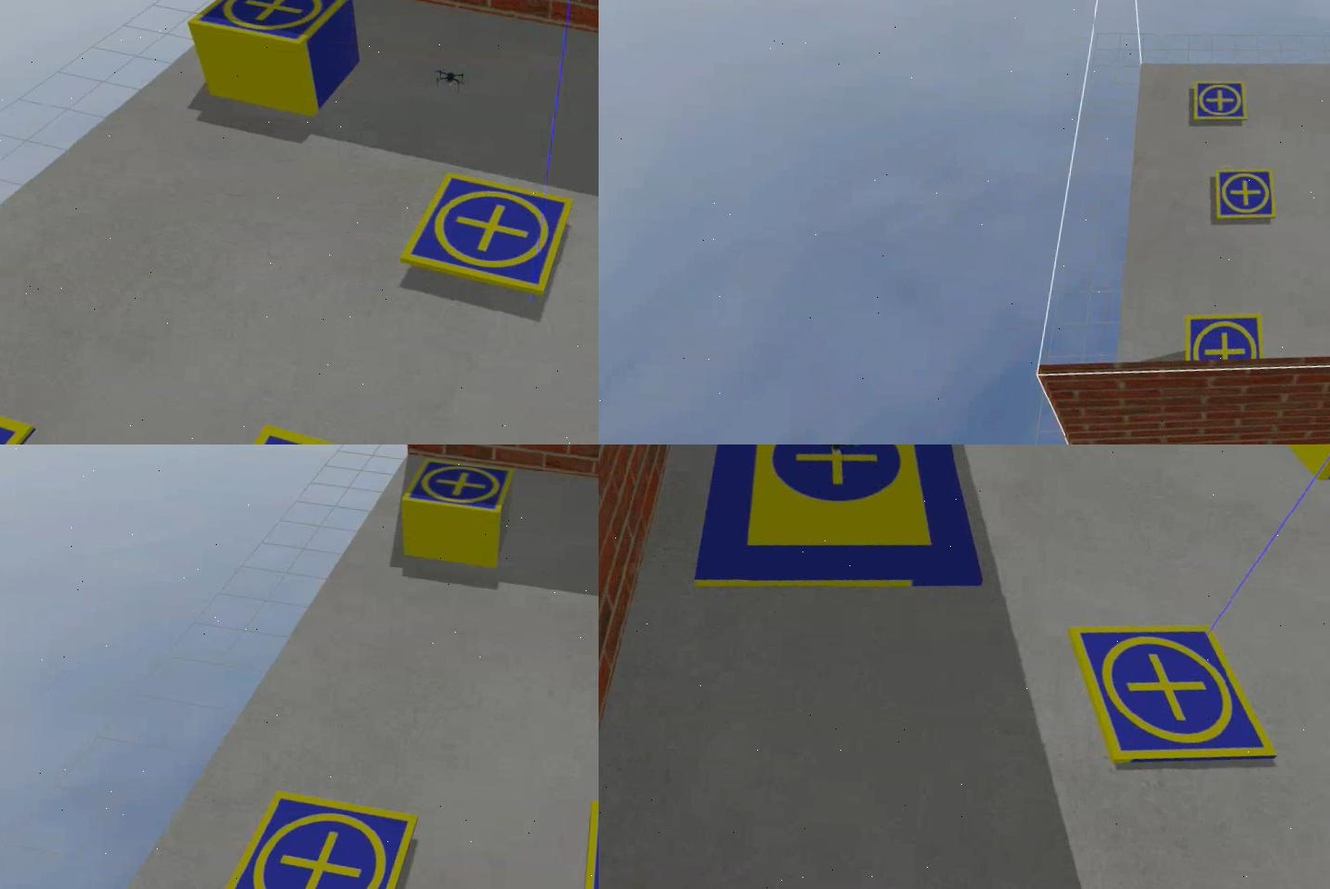large_base: (689, 445, 992, 609)
small_base: (1063, 617, 1281, 782), (397, 171, 573, 297), (208, 790, 417, 889), (186, 1, 352, 53), (399, 457, 511, 516), (1182, 310, 1264, 371), (1211, 165, 1276, 225), (1188, 78, 1249, 126)
